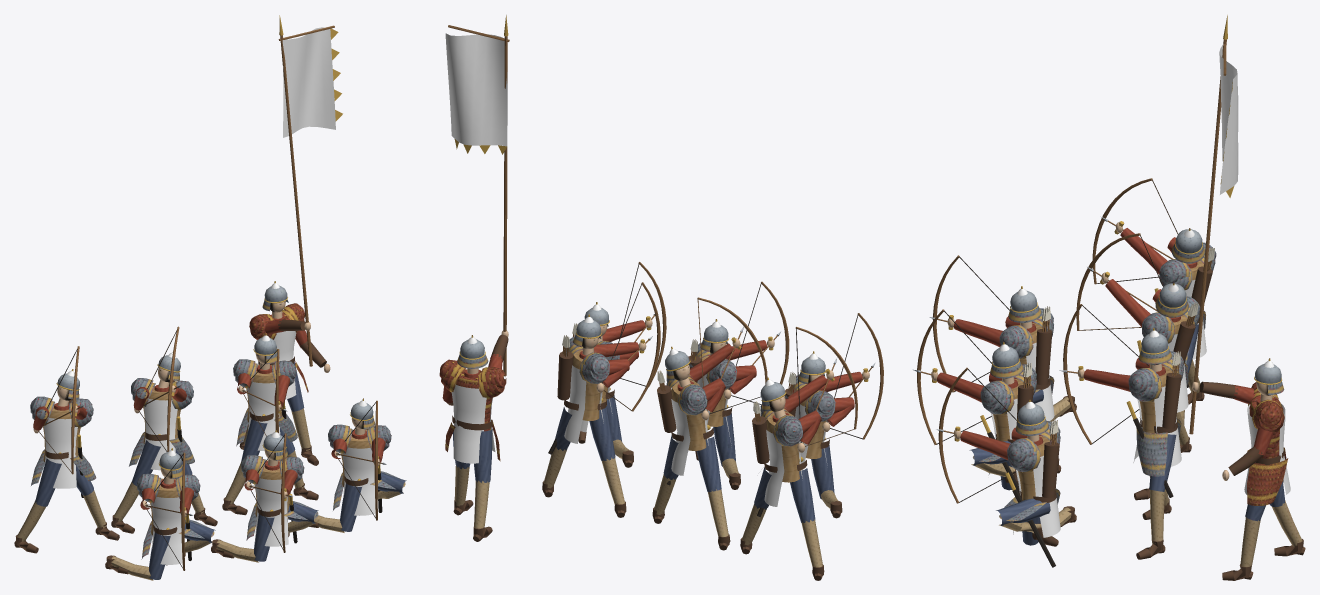
File: Unit_Archer.glb
The picture shows the model from 3 angles, left to right: view 1: azimuth 30°, elevation 25°; view 2: azimuth 150°, elevation 25°; view 3: azimuth 270°, elevation 25°; orthographic projection. The views are drawn at different scales.
Visible parts, largest first — view 1: Unit_Archer; view 2: Unit_Archer; view 3: Unit_Archer.
Part boxes in pixels (box(x1,y1,x2,y2)): Unit_Archer: box(14, 15, 406, 580); Unit_Archer: box(439, 15, 883, 580); Unit_Archer: box(913, 15, 1305, 580).
Size of the model in its own units: 3.84 by 4.99 by 3.25.
Materials: 2 (1 with a texture image).
